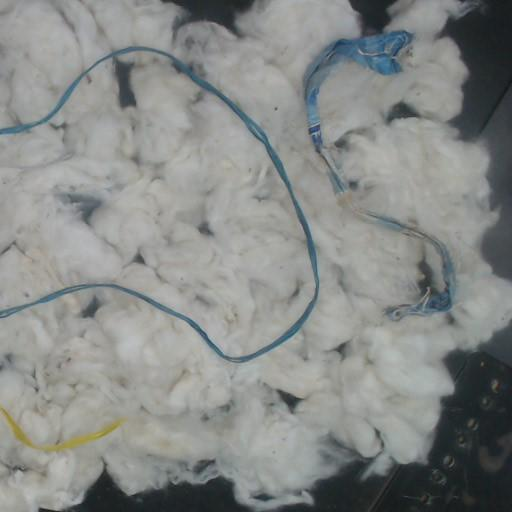cloth: (305, 30, 413, 193), (364, 211, 455, 319)
cotton: (0, 0, 511, 511)
thread: (0, 46, 320, 362), (0, 405, 121, 451)
